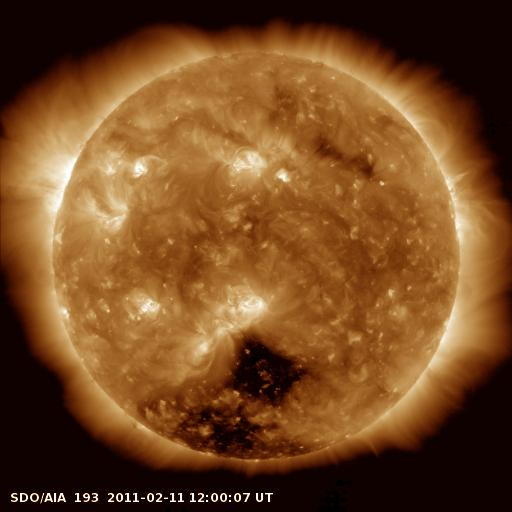coronal_hole: (137, 328, 310, 459)
